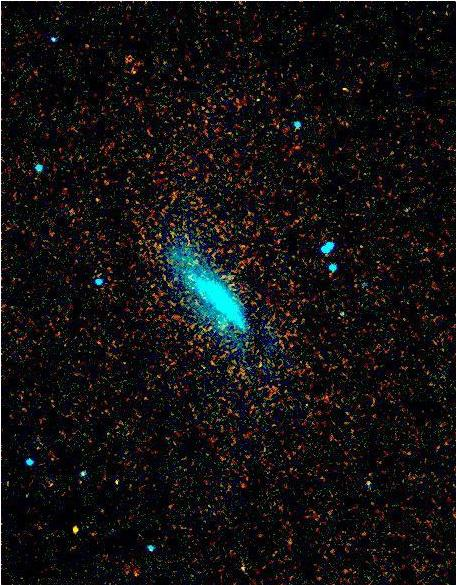star: (59, 513, 89, 543)
